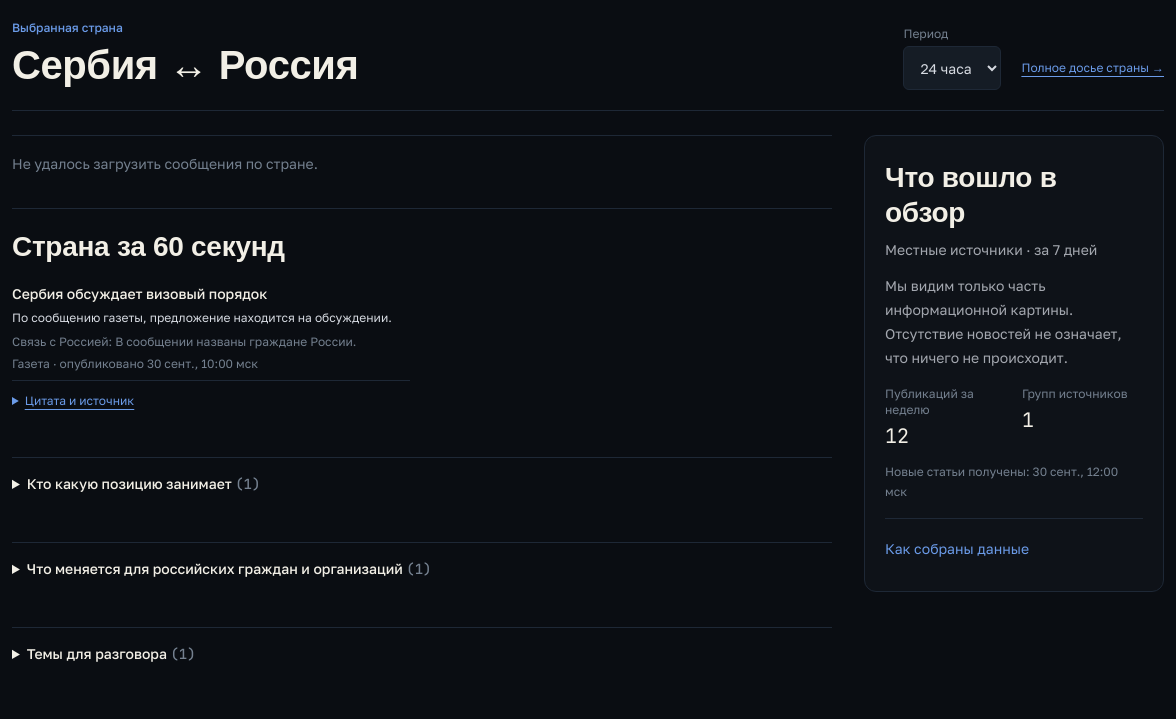
Test: DecisionWorkspace › keeps every claim label when one exact source fragment supports three claims
(page scrolled)
Check: the heading "Сербия ↔ Россия" is shown, box [12, 40, 358, 90]
What coordinates should you click on to do the following:
click the heading "Цитата и источник"
I would click on:
 (73, 401)
Its box is [12, 389, 134, 413].
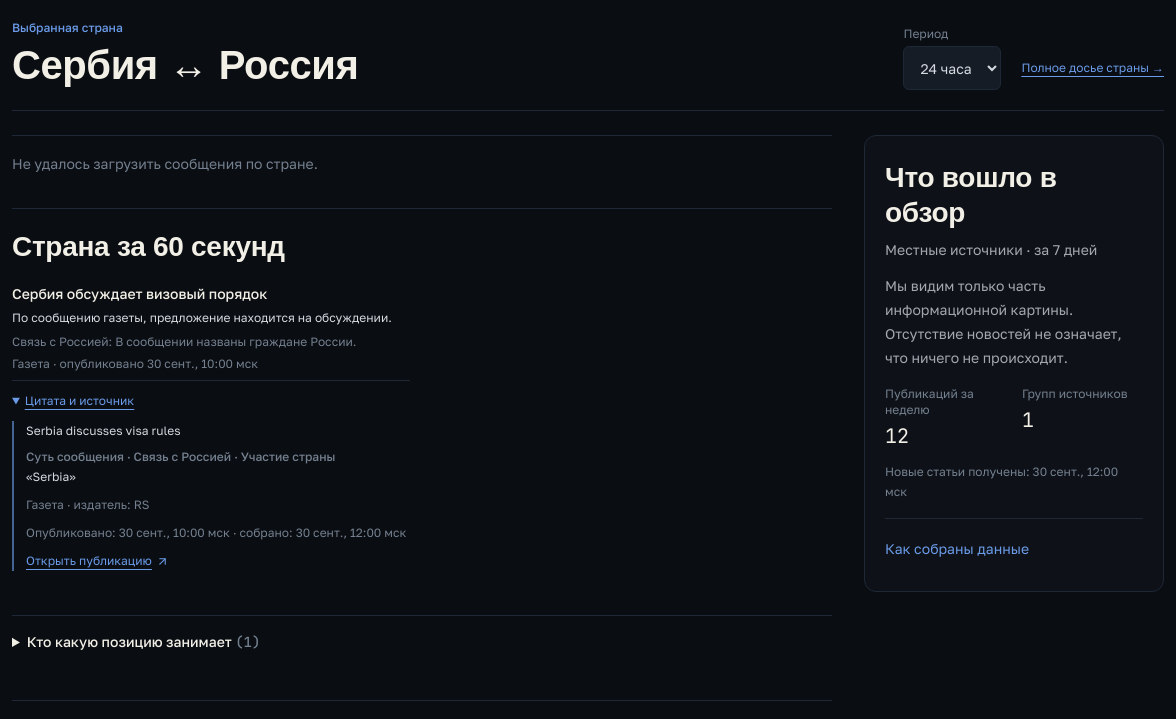
Check: the text "Суть сообщения" is shown, box [26, 449, 124, 464]
Check: the text "Связь с Россией" is shown, box [134, 449, 231, 464]
Check: the text "Участие страны" is shown, box [241, 449, 335, 464]
